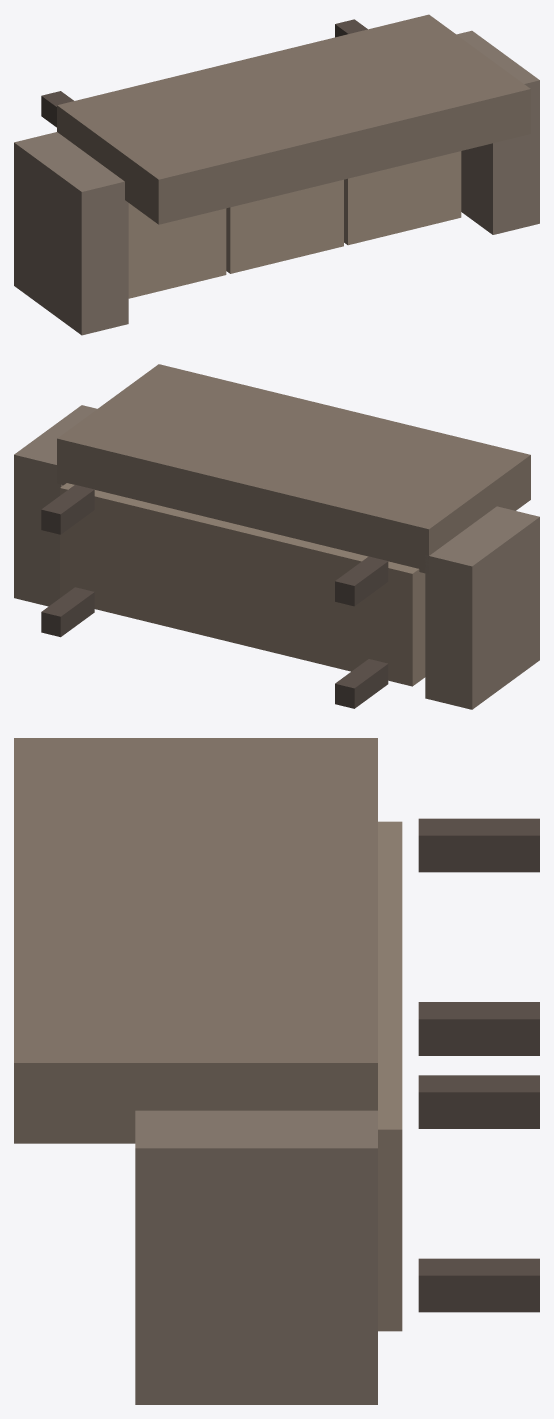
Rendered from sofa.glb.
3 renders of one model, top to bottom at view 1: azimuth 30°, elevation 25°; view 2: azimuth 150°, elevation 25°; view 3: azimuth 270°, elevation 25°, orthographic. The views are drawn at different scales.
Visible parts, largest first — view 1: back, left_arm, right_arm, cushion3, cushion2, cushion1, leg-7528; view 2: back, seat, left_arm, right_arm, leg-7528, leg-75-22, leg75-22, leg7528; view 3: back, right_arm, seat, leg-7528, leg75-22, leg-75-22, leg7528.
Boxes of the visible parts, x1,y1,x2,y2 form: back: (57, 14, 530, 224); left_arm: (14, 132, 128, 335); right_arm: (456, 30, 539, 234); cushion3: (344, 151, 461, 245); cushion2: (226, 179, 343, 273); cushion1: (128, 203, 226, 298); leg-7528: (41, 91, 73, 127); back: (57, 364, 530, 574); seat: (60, 483, 425, 686); left_arm: (425, 506, 539, 709); right_arm: (14, 405, 96, 606); leg-7528: (335, 556, 388, 606); leg-75-22: (335, 659, 388, 708); leg75-22: (41, 587, 94, 637); leg7528: (41, 484, 94, 534); back: (14, 738, 377, 1143); right_arm: (135, 1110, 377, 1404); seat: (378, 821, 402, 1331); leg-7528: (418, 818, 539, 872); leg75-22: (418, 1258, 539, 1312); leg-75-22: (418, 1002, 539, 1055); leg7528: (418, 1075, 539, 1128).
Size of the model in its own units: 234 by 83 by 130.
